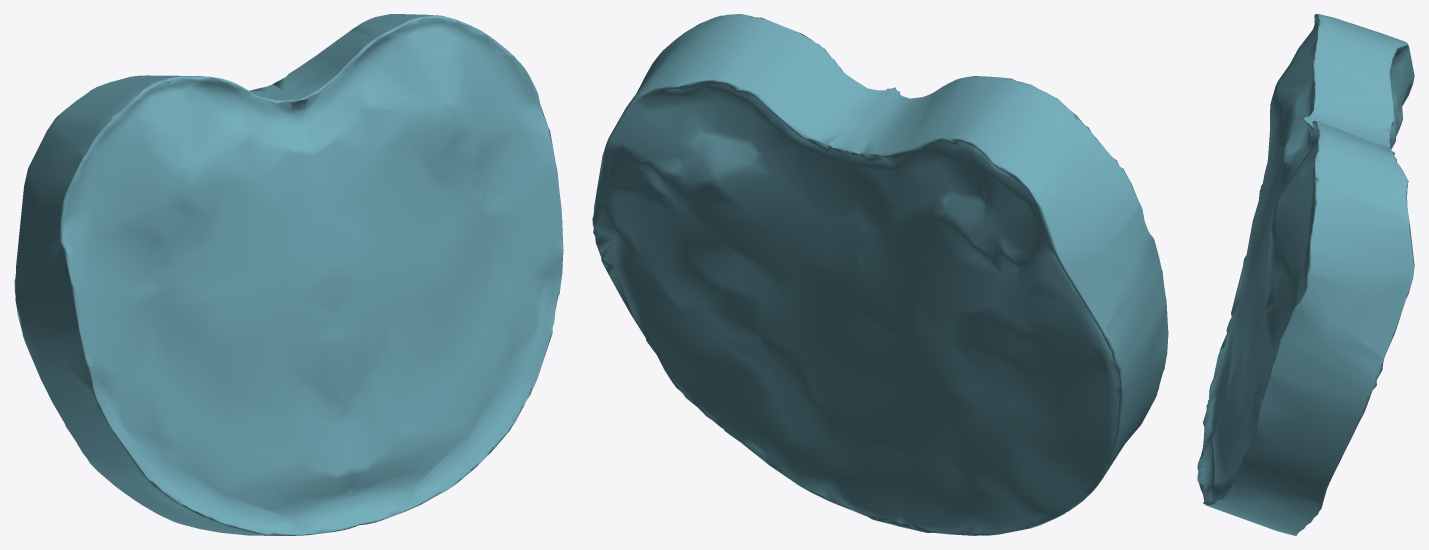
3 renders of one model, left to right at view 1: azimuth 30°, elevation 25°; view 2: azimuth 150°, elevation 25°; view 3: azimuth 270°, elevation 25°, orthographic. The views are drawn at different scales.
Parts seen in each view (by area): view 1: 胸12—腰1椎间盘; view 2: 胸12—腰1椎间盘; view 3: 胸12—腰1椎间盘.
Boxes of the visible parts, <box> form: 胸12—腰1椎间盘: <box>14,14,563,535</box>; 胸12—腰1椎间盘: <box>592,14,1168,535</box>; 胸12—腰1椎间盘: <box>1197,14,1414,535</box>.
Bounding box in the file's own units: 0.0655 × 0.0585 × 0.0268.
